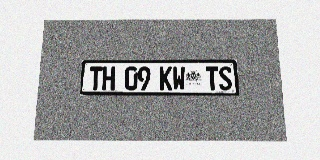0: (125, 66, 138, 90)
9: (138, 66, 150, 90)
H: (102, 66, 115, 90)
K: (159, 66, 172, 90)
S: (218, 66, 232, 90)
T: (205, 66, 219, 90), (89, 66, 102, 90)
W: (172, 66, 185, 90)
